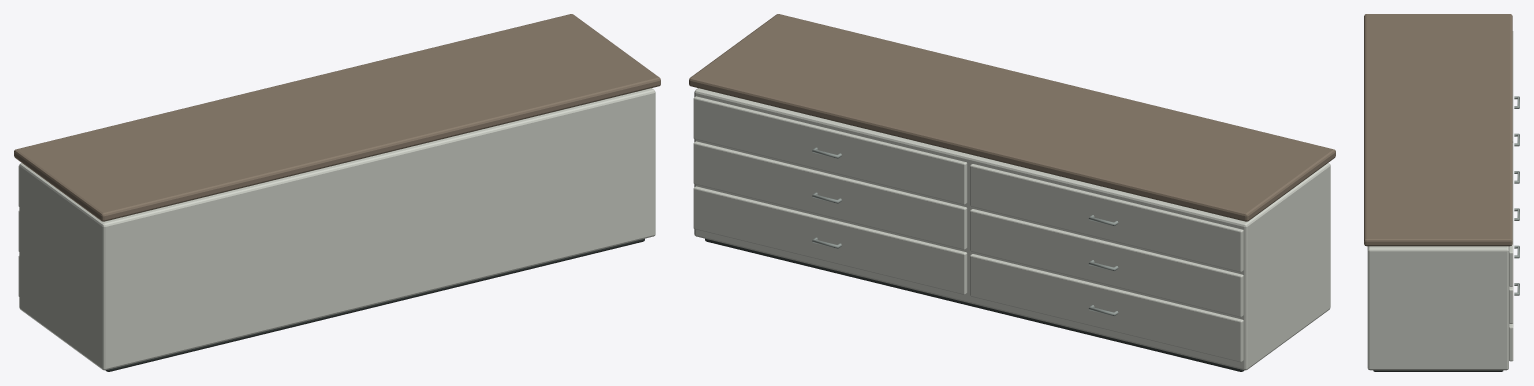
The model's file is demo_bench.glb.
3 views of the same model, side by side, from view 1: azimuth 30°, elevation 25°; view 2: azimuth 150°, elevation 25°; view 3: azimuth 270°, elevation 25° (orthographic). The views are drawn at different scales.
Parts seen in each view (by area): view 1: KitIvory, KitWood, KitDark; view 2: KitIvory, KitWood, KitDark, KitSteel; view 3: KitWood, KitIvory, KitSteel, KitDark.
Part boxes in pixels (x1,y1,x2,y2): KitIvory: (18, 88, 655, 370); KitWood: (14, 14, 660, 221); KitDark: (105, 238, 644, 371); KitIvory: (693, 88, 1330, 370); KitWood: (689, 14, 1335, 221); KitDark: (705, 238, 1244, 371); KitSteel: (812, 147, 1118, 316); KitWood: (1364, 14, 1512, 246); KitIvory: (1367, 31, 1513, 370); KitSteel: (1514, 96, 1519, 295); KitDark: (1373, 370, 1503, 371).
Bounding box in the file's own units: 3.04 × 0.8575 × 0.8814.
